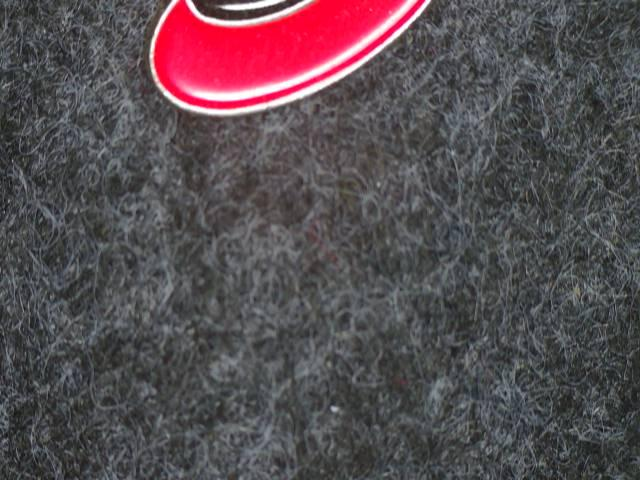Red-Hat: (129, 0, 482, 139)
